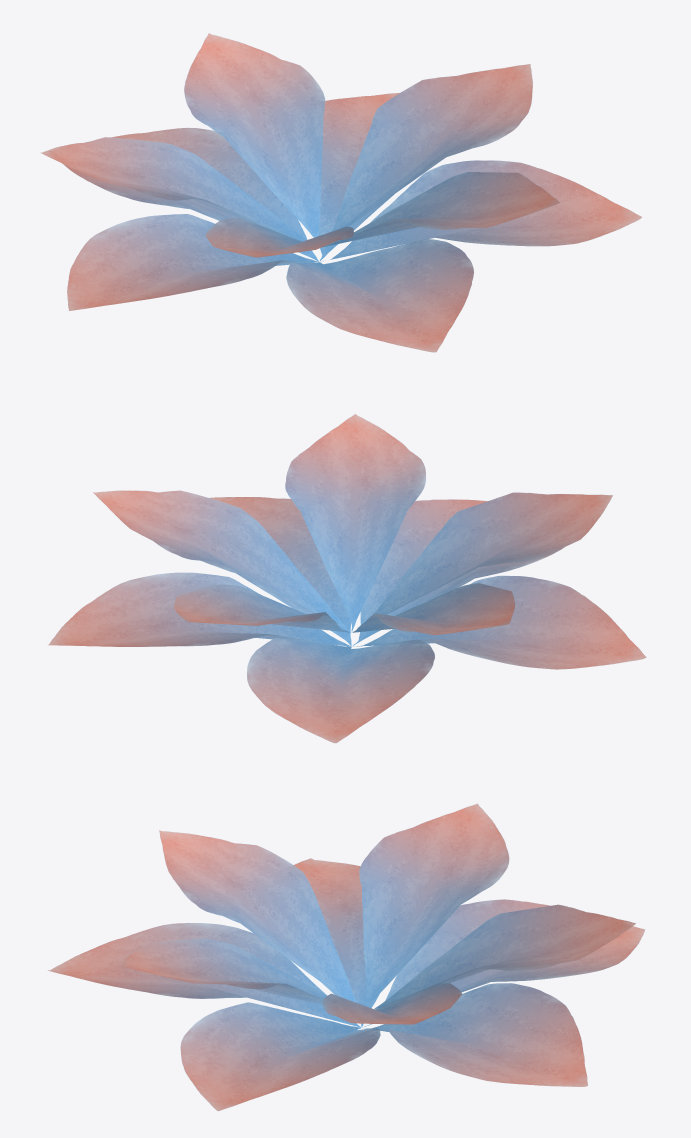
File: flower.glb
The picture shows the model from 3 angles, top to bottom: view 1: azimuth 30°, elevation 25°; view 2: azimuth 150°, elevation 25°; view 3: azimuth 270°, elevation 25°; orthographic projection. The views are drawn at different scales.
Visible parts, largest first — view 1: pPlane1; view 2: pPlane1; view 3: pPlane1.
Boxes of the visible parts, <box> form: pPlane1: <box>40,33,641,352</box>; pPlane1: <box>48,414,646,743</box>; pPlane1: <box>48,803,644,1111</box>.
Bounding box in the file's own units: 2.69 × 0.5675 × 2.7.
Materials: 1 (1 with a texture image).
